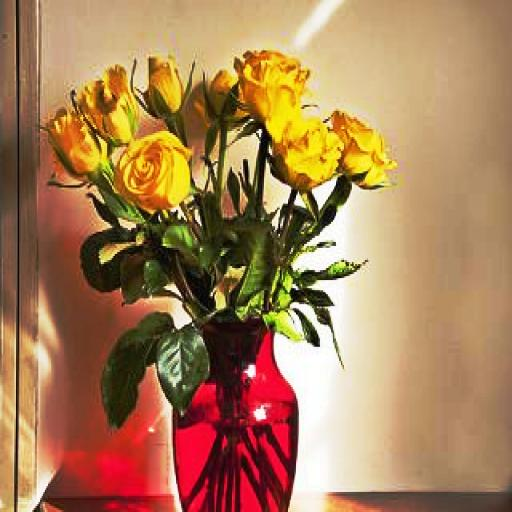rose: (115, 131, 195, 206), (235, 48, 306, 123), (330, 109, 392, 189), (269, 113, 339, 181), (75, 65, 136, 143), (146, 50, 194, 113)
